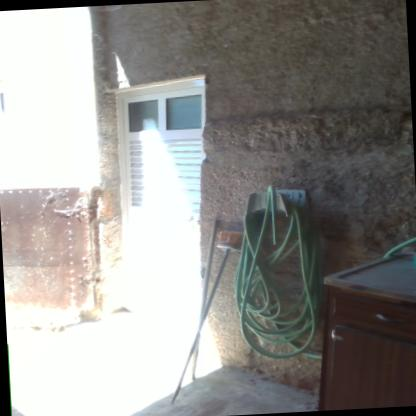closed: (88, 66, 226, 334)
